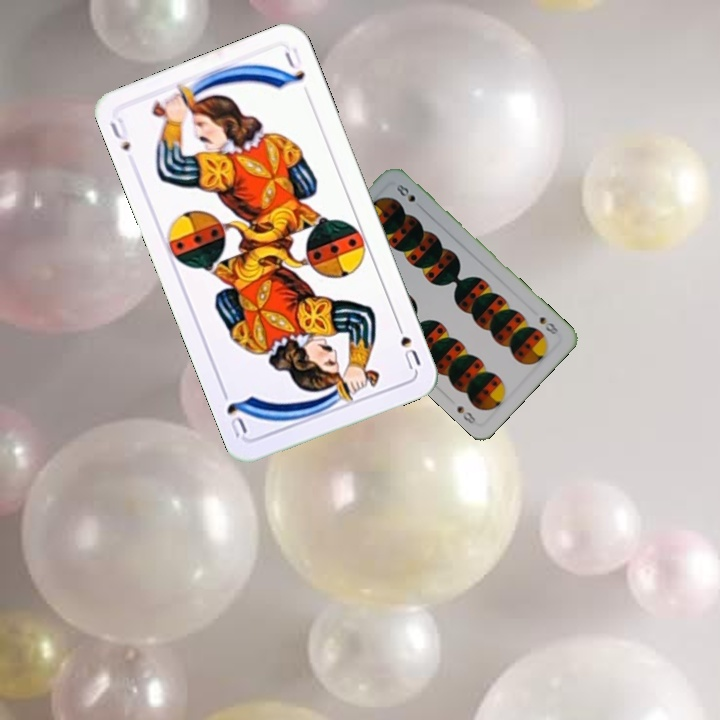S8: (535, 313, 561, 337)
SU: (391, 316, 424, 373), (106, 114, 133, 154)
